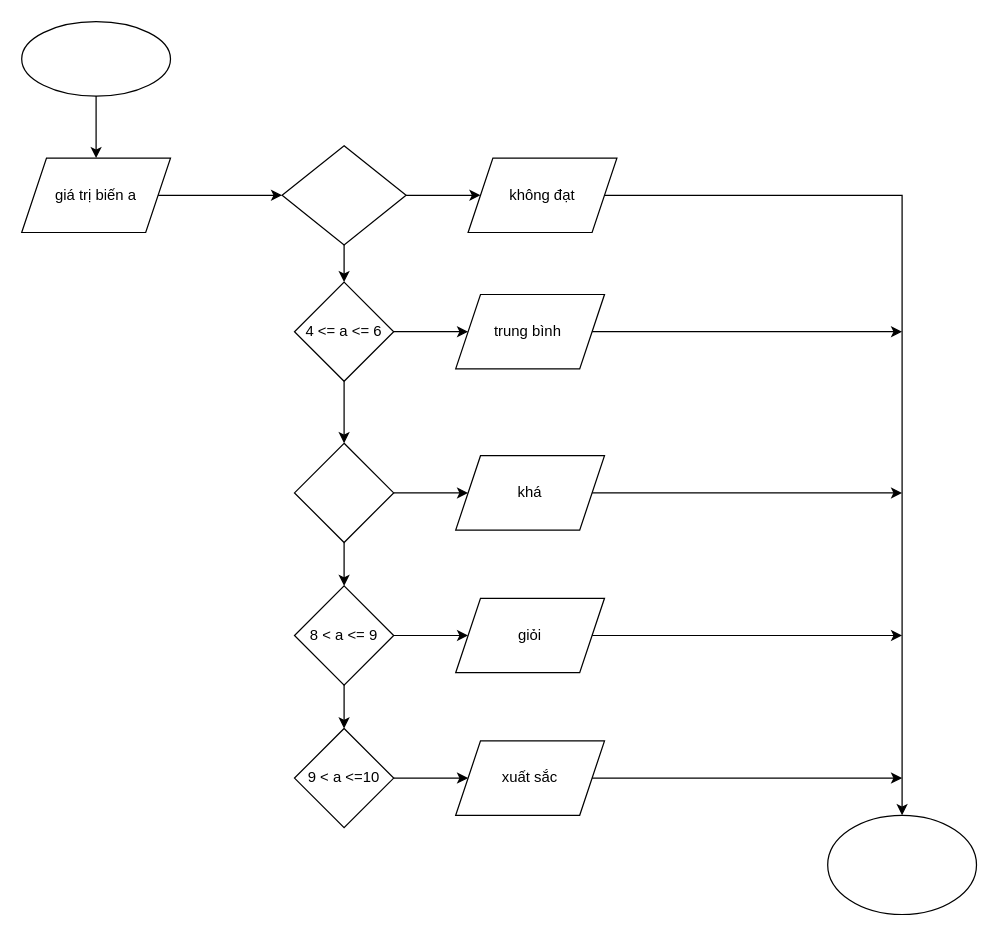
The diagram is 998 pixels wide and 936 high, and some of its shapes have lost their labels. Here are the shapes that lost their labels. From the top down, the centre of each, then its label:
the point at 95,58: start
the point at 343,194: a < 4
the point at 343,492: 6 < a <= 8
the point at 901,864: end
